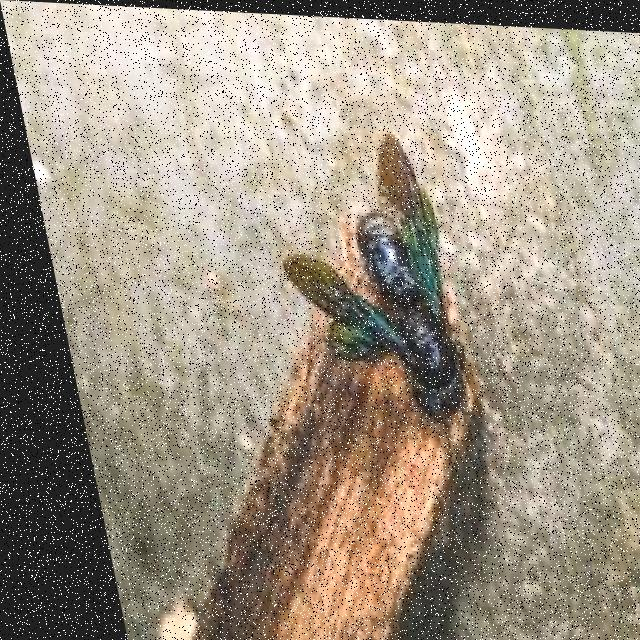Xylocopa: (251, 123, 483, 430)
